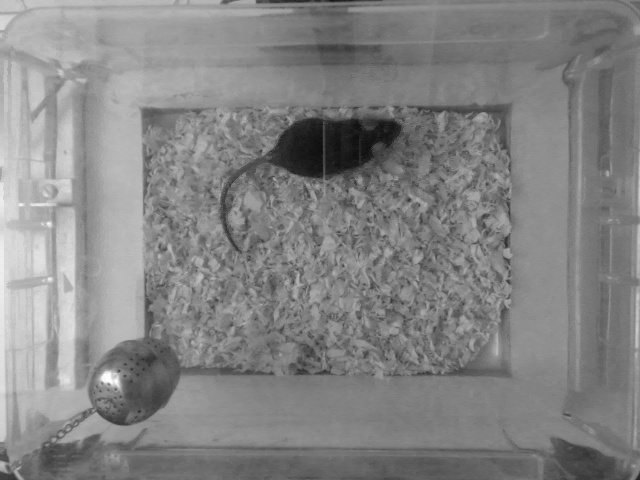mice: (219, 116, 413, 254)
